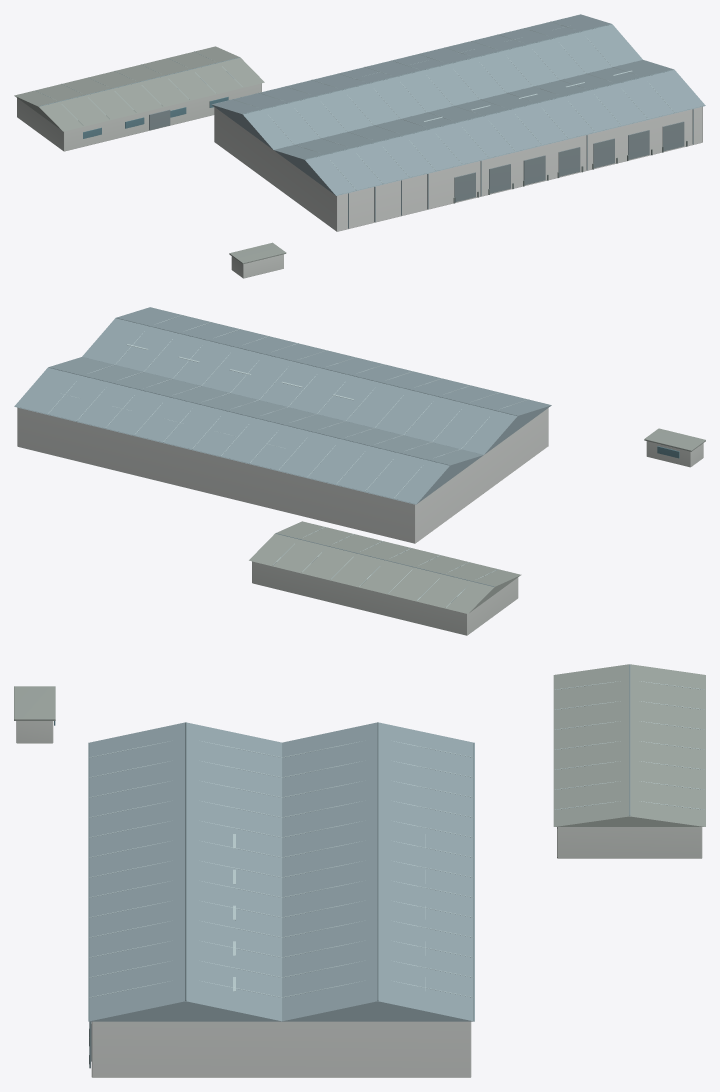
The model's file is buildings.glb.
3 renders of one model, top to bottom at view 1: azimuth 30°, elevation 25°; view 2: azimuth 150°, elevation 25°; view 3: azimuth 270°, elevation 25°, orthographic. The views are drawn at different scales.
Parts seen in each view (by area): view 1: main hall south roof, main hall north roof, main warehouse walls, northwest auxiliary roof, northwest auxiliary walls, southwest gatehouse, gatehouse roof, south loading door 525, south loading door 745, south loading door 580, south loading door 690, south loading door 415 (+4 smaller); view 2: main hall north roof, main hall south roof, main warehouse walls, northwest auxiliary roof, northwest auxiliary walls, southwest gatehouse, gatehouse roof, main north ridge cap, main south ridge cap; view 3: main hall north roof, main hall south roof, northwest auxiliary roof, main warehouse walls, northwest auxiliary walls, gatehouse roof, southwest gatehouse.
Part boxes in pixels (left/top/right/bottom): main hall south roof: left=274, top=60, right=705, bottom=195; main hall north roof: left=211, top=14, right=642, bottom=149; main warehouse walls: left=214, top=106, right=702, bottom=231; northwest auxiliary roof: left=14, top=46, right=264, bottom=131; northwest auxiliary walls: left=17, top=83, right=261, bottom=151; southwest gatehouse: left=231, top=254, right=283, bottom=278; gatehouse roof: left=229, top=242, right=286, bottom=264; south loading door 525: left=523, top=155, right=545, bottom=184; south loading door 745: left=662, top=121, right=684, bottom=151; south loading door 580: left=558, top=147, right=580, bottom=176; south loading door 690: left=628, top=130, right=649, bottom=159; south loading door 415: left=454, top=172, right=475, bottom=201; main hall north roof: left=14, top=357, right=483, bottom=504; main hall south roof: left=82, top=307, right=551, bottom=454; main warehouse walls: left=17, top=407, right=548, bottom=543; northwest auxiliary roof: left=249, top=521, right=521, bottom=613; northwest auxiliary walls: left=252, top=561, right=518, bottom=635; southwest gatehouse: left=646, top=441, right=703, bottom=467; gatehouse roof: left=644, top=428, right=705, bottom=451; main north ridge cap: left=48, top=367, right=449, bottom=465; main south ridge cap: left=116, top=317, right=517, bottom=415; main hall north roof: left=282, top=722, right=474, bottom=1021; main hall south roof: left=88, top=722, right=281, bottom=1021; northwest auxiliary roof: left=553, top=664, right=705, bottom=826; main warehouse walls: left=91, top=1021, right=471, bottom=1077; northwest auxiliary walls: left=557, top=827, right=702, bottom=858; gatehouse roof: left=14, top=686, right=55, bottom=720; southwest gatehouse: left=16, top=721, right=53, bottom=743.
Size of the model in its own units: 90.7 by 8.98 by 71.43.
